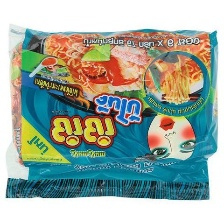snack: (0, 17, 224, 205)
